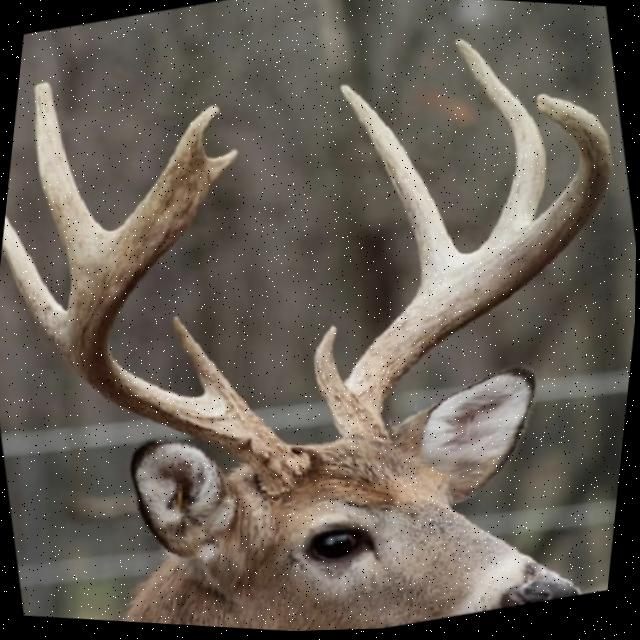E1: (203, 148, 239, 187)
L-F: (71, 106, 311, 498)
L-G1: (173, 315, 247, 404)
L-G2: (2, 211, 67, 362)
L-G3: (33, 81, 109, 288)
R-F: (336, 94, 615, 439)
R-G1: (315, 326, 348, 414)
R-G2: (341, 85, 462, 285)
R-G3: (455, 40, 547, 243)
